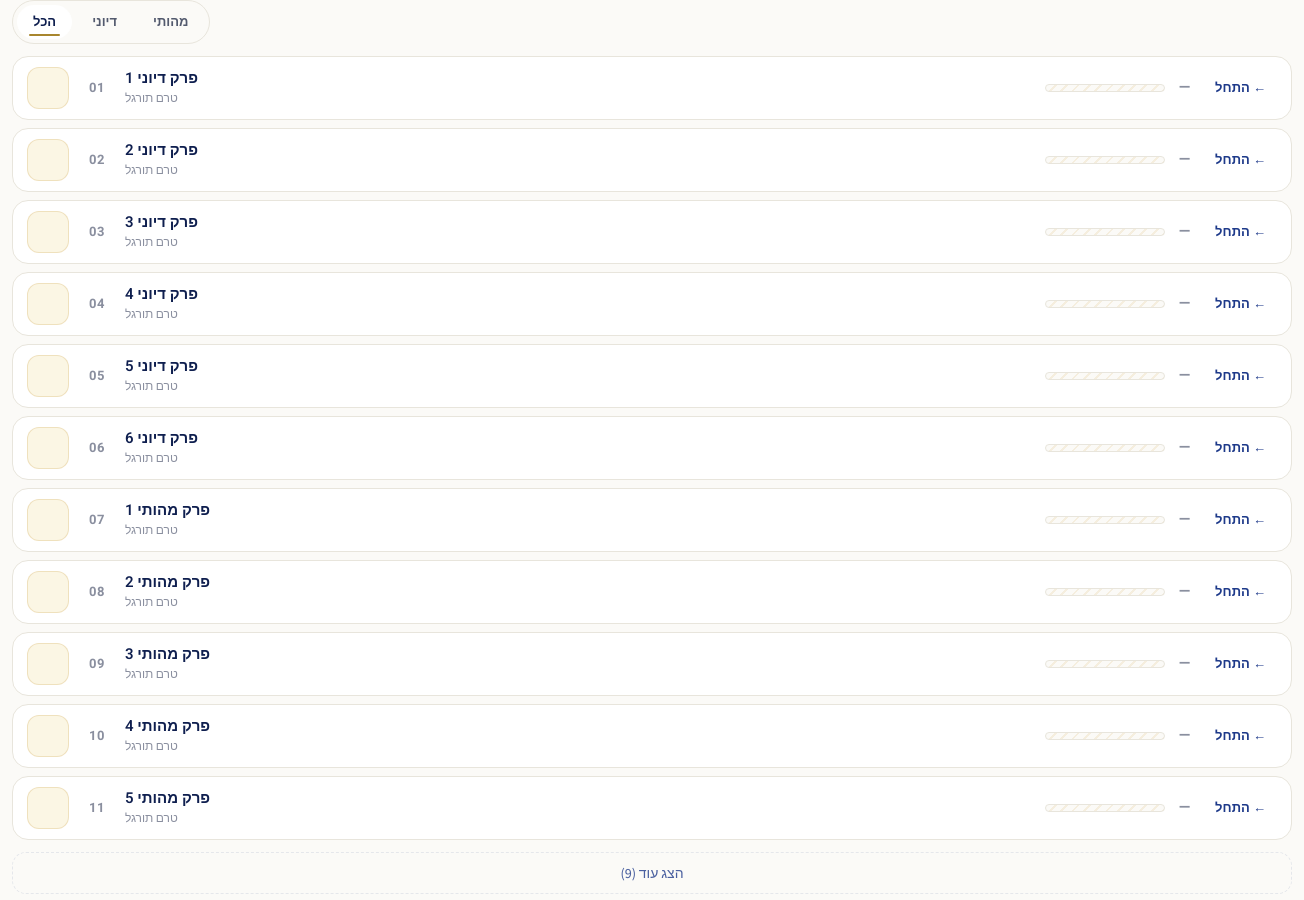
it: MasteryRowsClient › clicking 'דיוני' narrows the list to procedural rows
Click the radio button labelled "דיוני" at coordinates (105, 22), box top-left (76, 5), bottom-right (133, 38)
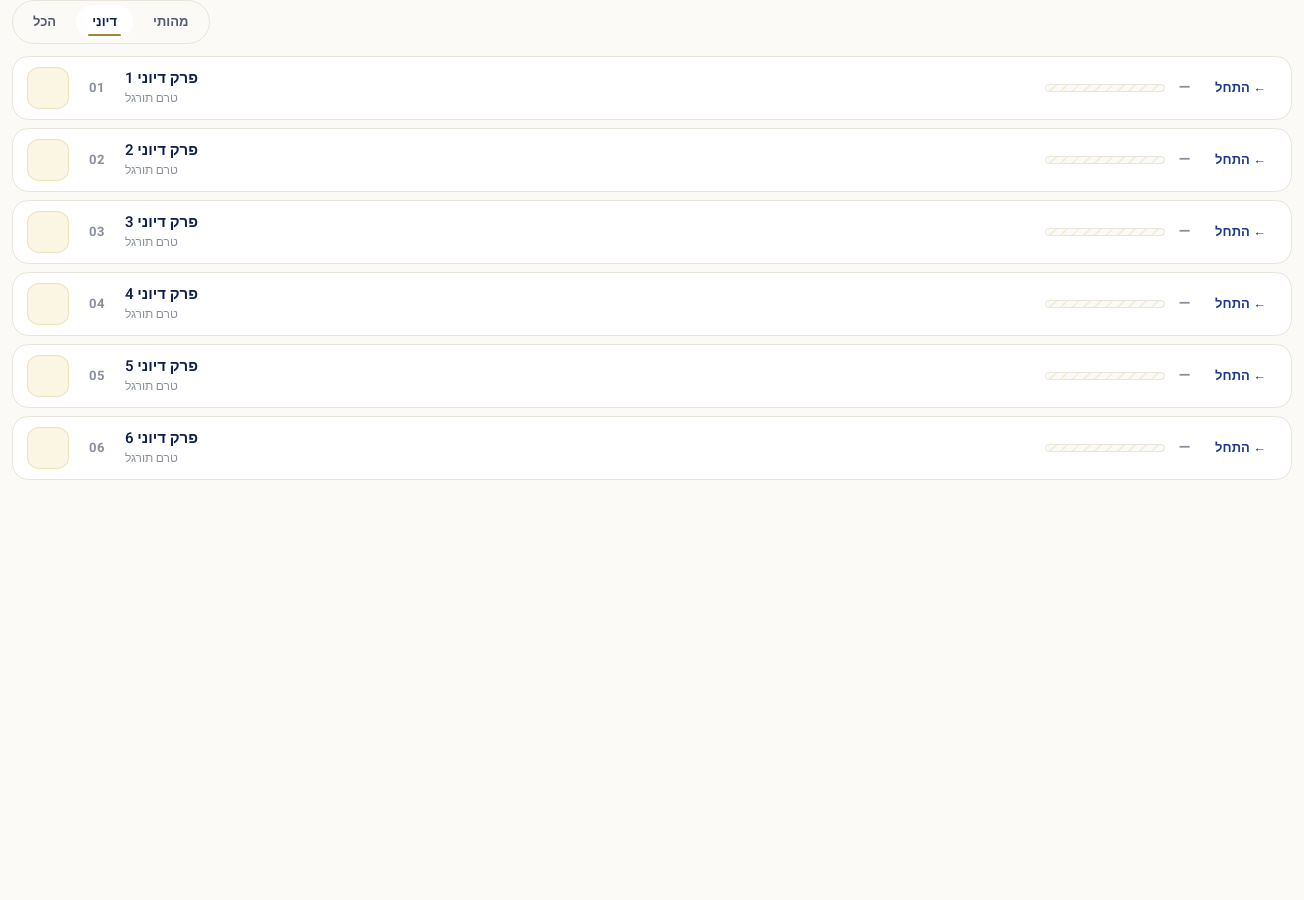
expect the number of links is 6: met, box top-left (12, 56), bottom-right (1292, 120); top-left (12, 128), bottom-right (1292, 192); top-left (12, 200), bottom-right (1292, 264); top-left (12, 272), bottom-right (1292, 336); top-left (12, 344), bottom-right (1292, 408); top-left (12, 416), bottom-right (1292, 480)
expect the button with test id "mastery-toggle-desktop" is gone: met
